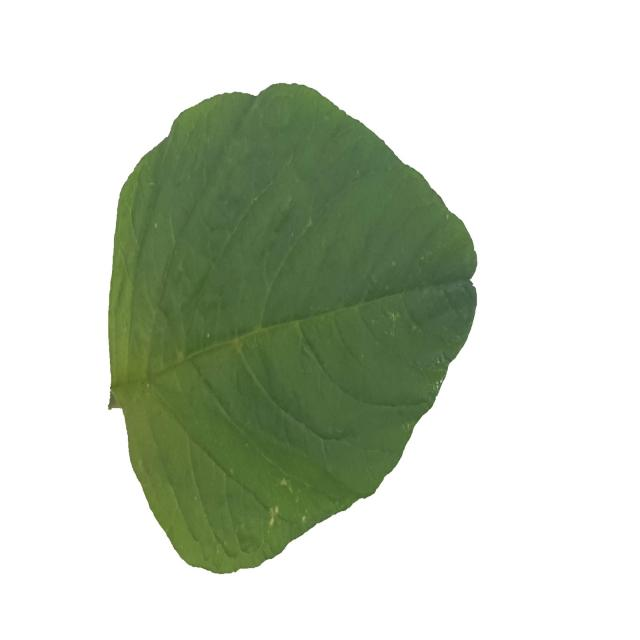Medicinal-Arive Dantu: (106, 74, 478, 572)
